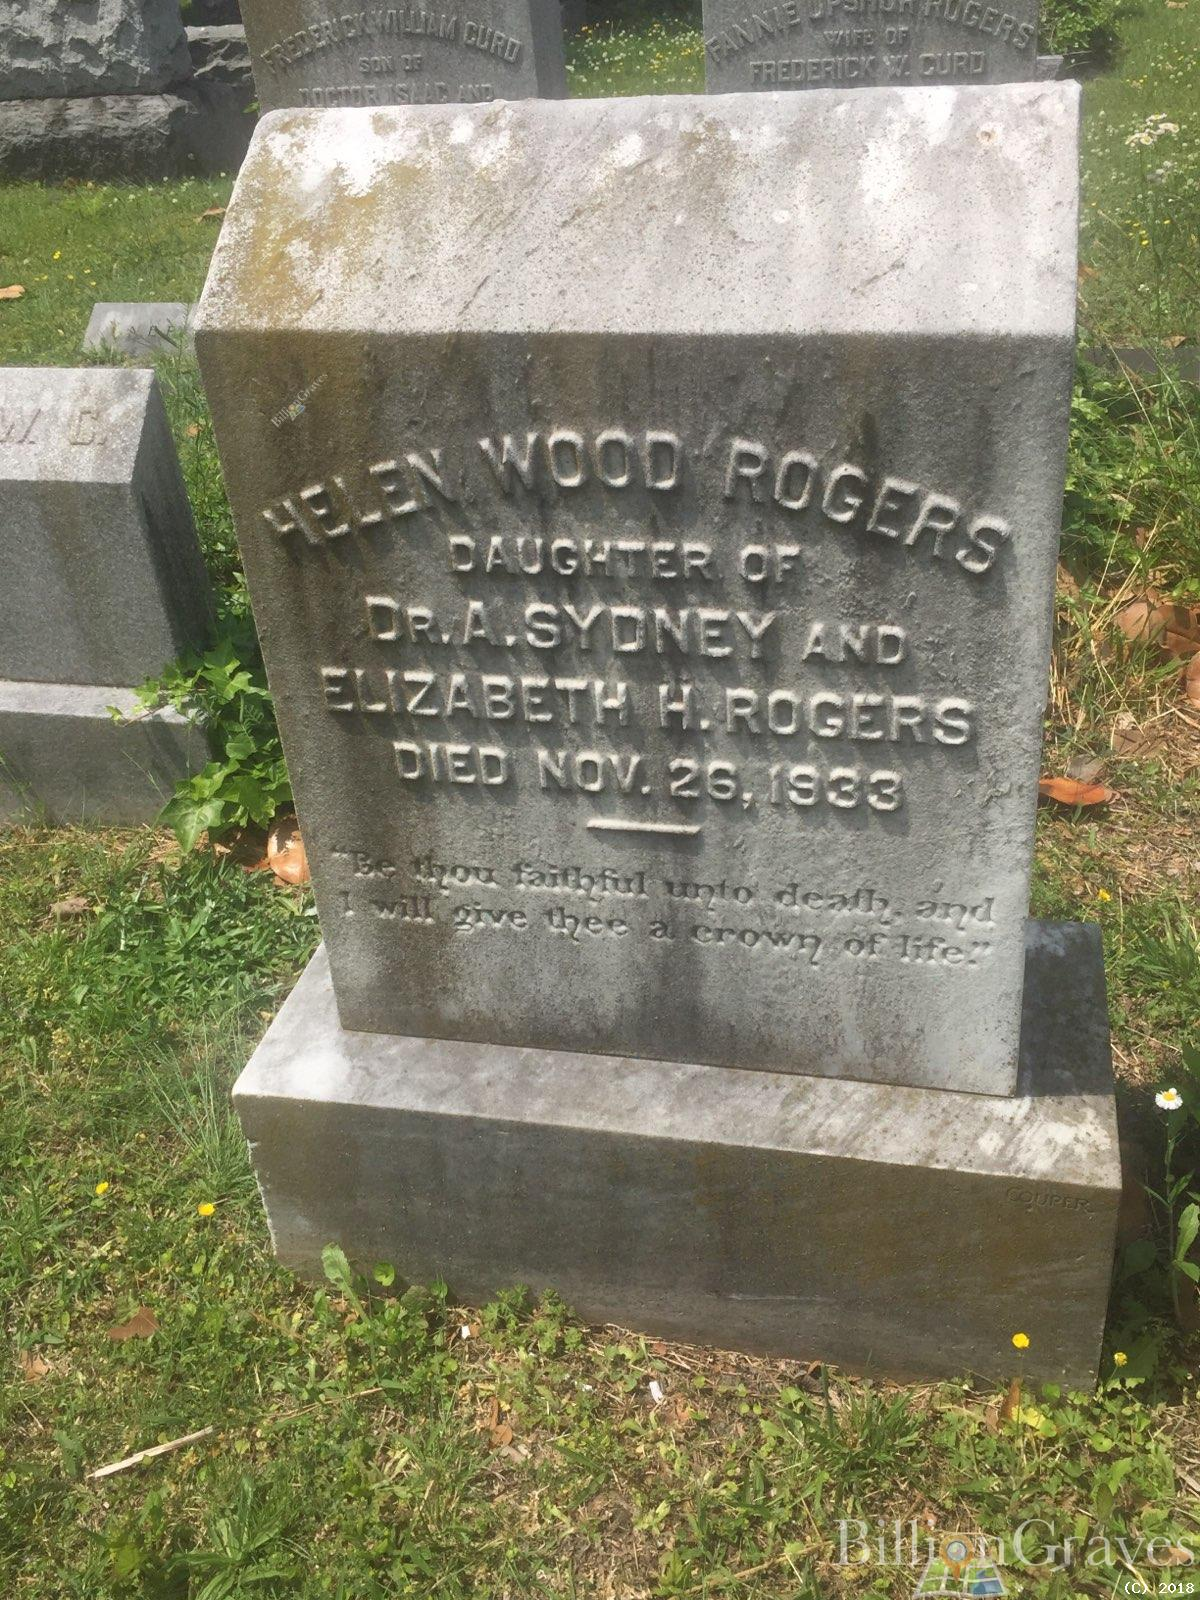upright: (159, 35, 1186, 1409)
